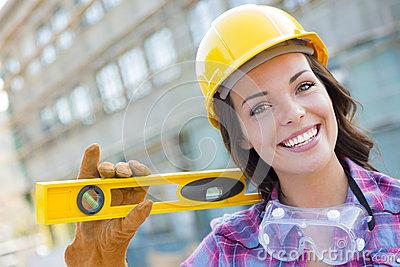helmet: (196, 8, 326, 113)
